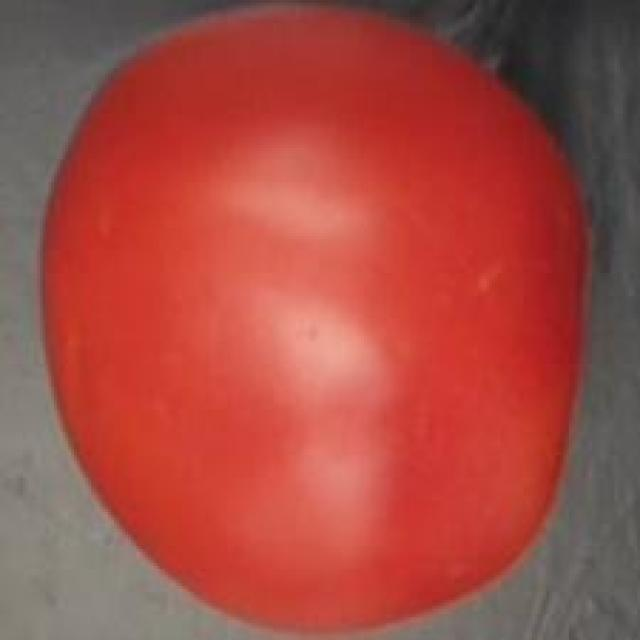ripe tomato: (28, 0, 603, 640)
